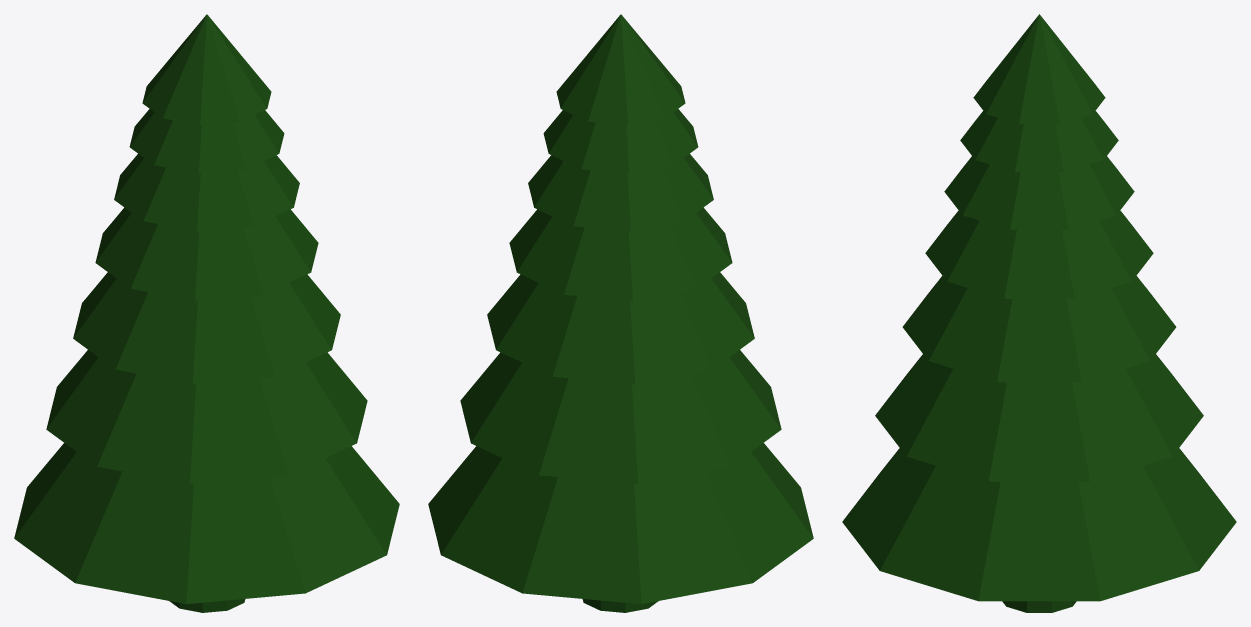
File: pine.fbx
3 views of the same model, side by side, from view 1: azimuth 30°, elevation 25°; view 2: azimuth 150°, elevation 25°; view 3: azimuth 270°, elevation 25° (orthographic).
Parts seen in each view (by area): view 1: Cone, Cylinder; view 2: Cone, Cylinder; view 3: Cone, Cylinder.
Part boxes in pixels (x1=…): Cone: x1=14, y1=14, x2=399, y2=604; Cylinder: x1=169, y1=599, x2=245, y2=612; Cone: x1=428, y1=14, x2=813, y2=604; Cylinder: x1=582, y1=599, x2=658, y2=612; Cone: x1=842, y1=14, x2=1236, y2=601; Cylinder: x1=1002, y1=601, x2=1076, y2=612.
Bounding box in the file's own units: 961 × 1566 × 914.
